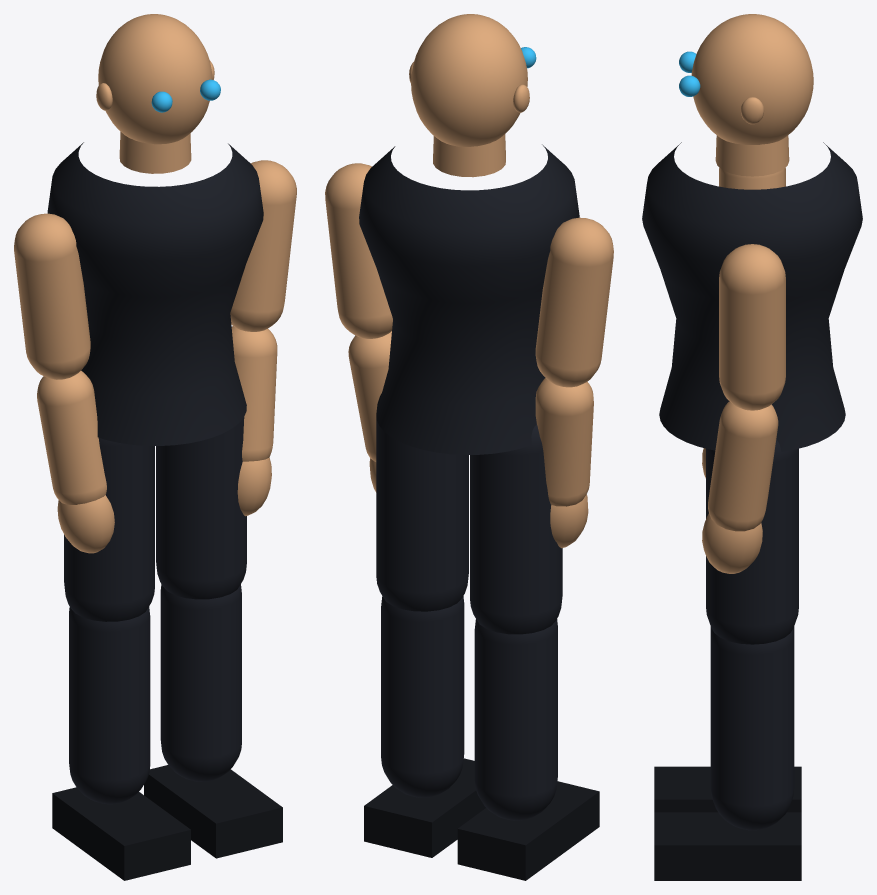
The model's file is base-athletic.glb.
3 renders of one model, left to right at view 1: azimuth 30°, elevation 25°; view 2: azimuth 150°, elevation 25°; view 3: azimuth 270°, elevation 25°, orthographic. The views are drawn at different scales.
Parts seen in each view (by area): view 1: Torso, Shin_L, Shin_R, Thigh_R, Thigh_L, Skull, UpperArm_L, Shoe_L, Shoe_R, Forearm_L, UpperArm_R, Forearm_R (+3 smaller); view 2: Torso, Thigh_L, Shin_L, Shin_R, Thigh_R, Skull, UpperArm_L, Shoe_L, UpperArm_R, Shoe_R, Forearm_L, Forearm_R (+2 smaller); view 3: Torso, Shin_R, Skull, Thigh_R, UpperArm_R, Shoe_R, Forearm_R, Shoe_L, Hand_R, Neck, UpperArm_L, Ear_R.
Boxes of the visible parts, bbox=[...] form: Torso: bbox=[47, 142, 263, 445]; Shin_L: bbox=[69, 606, 150, 804]; Shin_R: bbox=[160, 584, 241, 781]; Thigh_R: bbox=[156, 417, 246, 599]; Thigh_L: bbox=[64, 438, 154, 621]; Skull: bbox=[98, 14, 212, 144]; UpperArm_L: bbox=[14, 213, 90, 379]; Shoe_L: bbox=[52, 787, 190, 880]; Shoe_R: bbox=[144, 765, 282, 858]; Forearm_L: bbox=[37, 370, 106, 504]; UpperArm_R: bbox=[230, 160, 296, 331]; Forearm_R: bbox=[231, 326, 277, 461]; Torso: bbox=[359, 144, 579, 454]; Thigh_L: bbox=[470, 424, 562, 634]; Shin_L: bbox=[474, 619, 557, 820]; Shin_R: bbox=[381, 596, 464, 797]; Thigh_R: bbox=[376, 393, 468, 611]; Skull: bbox=[411, 14, 527, 146]; UpperArm_L: bbox=[535, 217, 613, 387]; Shoe_L: bbox=[457, 781, 599, 880]; UpperArm_R: bbox=[325, 163, 392, 338]; Shoe_R: bbox=[364, 758, 485, 857]; Forearm_L: bbox=[535, 378, 593, 506]; Forearm_R: bbox=[348, 331, 391, 461]; Torso: bbox=[642, 142, 862, 451]; Shin_R: bbox=[710, 629, 794, 830]; Skull: bbox=[691, 14, 813, 144]; Thigh_R: bbox=[706, 440, 798, 644]; UpperArm_R: bbox=[719, 244, 785, 410]; Shoe_R: bbox=[654, 812, 801, 880]; Forearm_R: bbox=[708, 401, 778, 531]; Shoe_L: bbox=[654, 766, 801, 812]; Hand_R: bbox=[702, 513, 762, 573]; Neck: bbox=[715, 135, 789, 176]; UpperArm_L: bbox=[719, 167, 785, 189]; Ear_R: bbox=[740, 97, 764, 124].
Bounding box in the file's own units: 0.6588 × 1.85 × 0.45.
